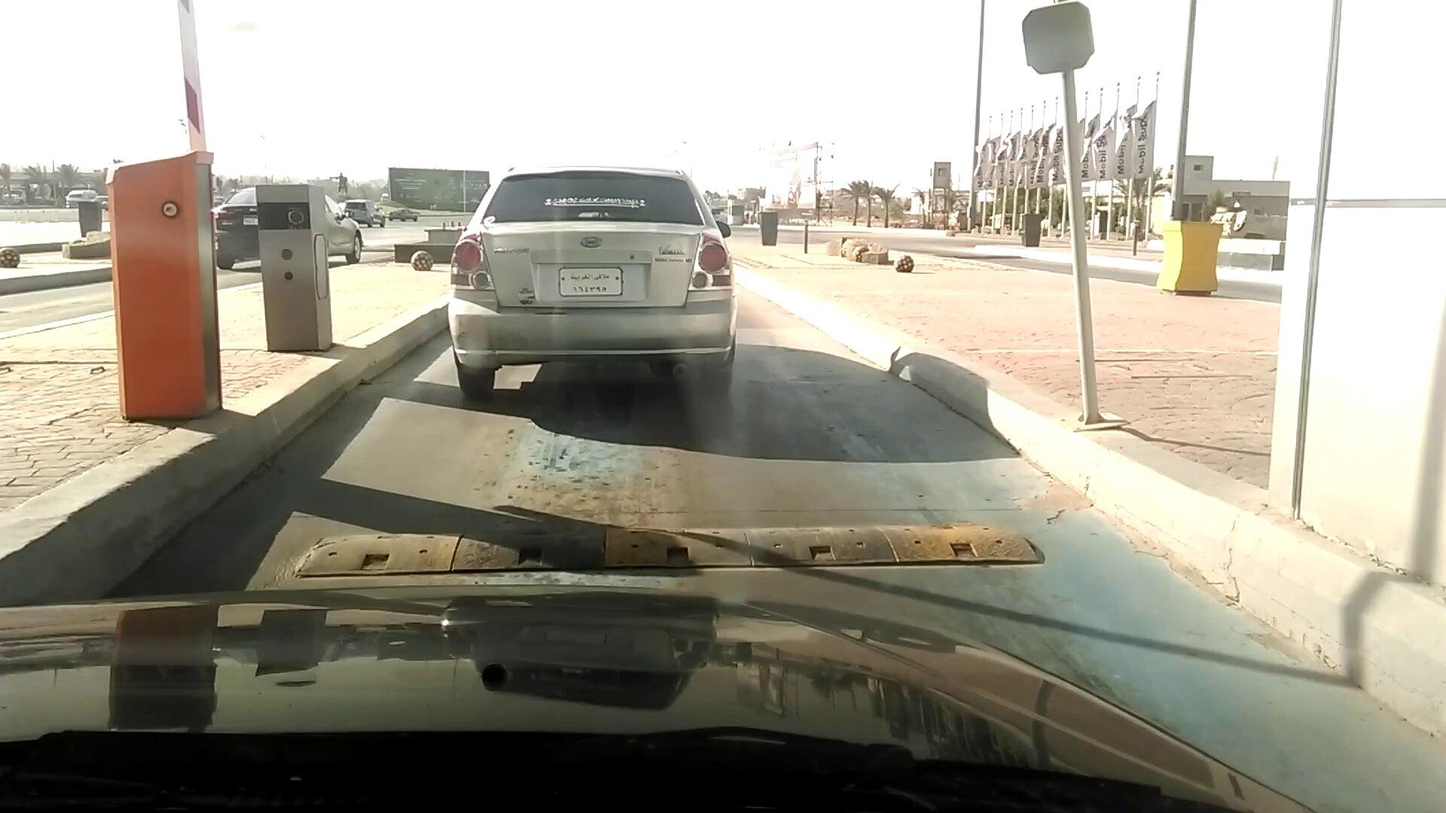Bump: (286, 531, 1069, 570)
